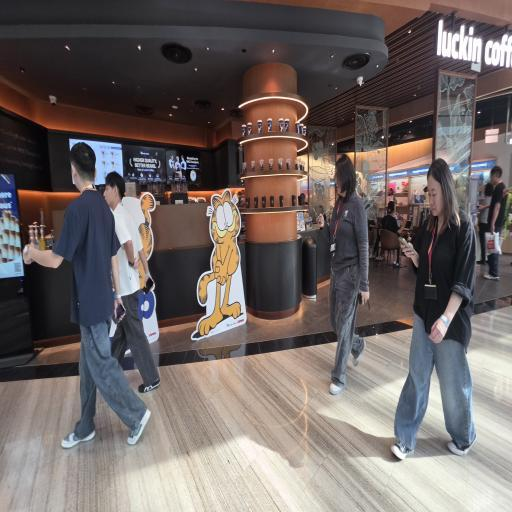person_left: (47, 124, 141, 443), (395, 150, 480, 464), (98, 153, 166, 392), (315, 142, 371, 384), (485, 158, 511, 276)
